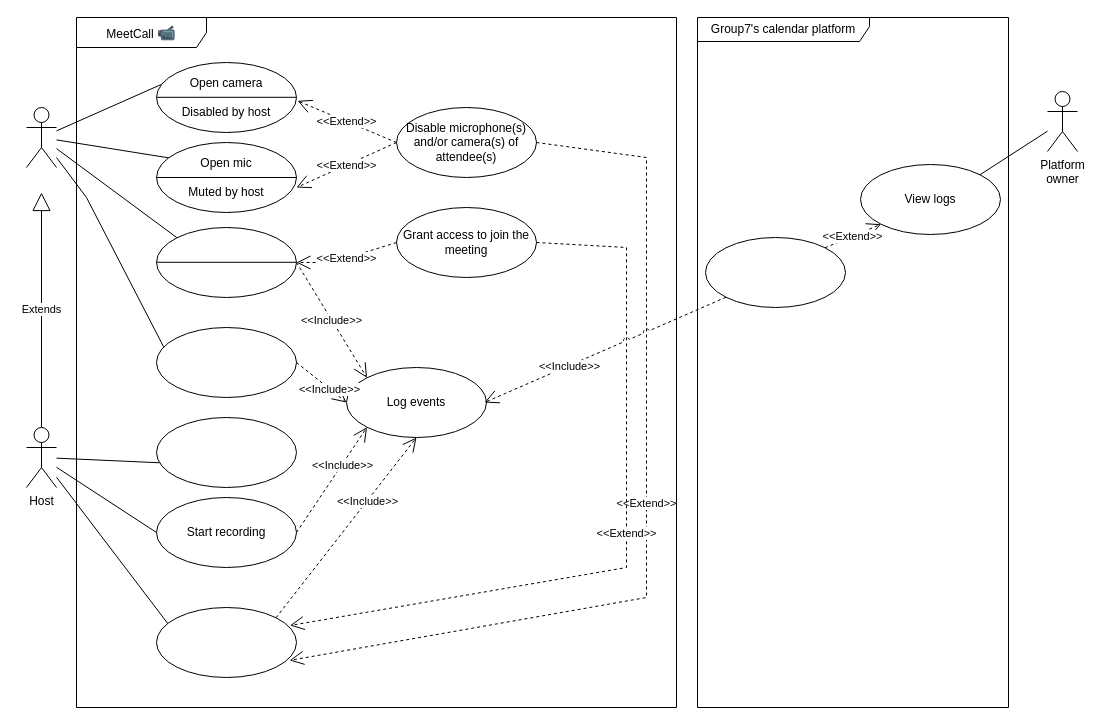
This 1102x725 diagram has some shape labels left out. Here are the shapes that lost their labels. From the top down, the box of each, then its label:
(26, 106, 56, 168): Attendee
(156, 226, 296, 298): Request to join the meeting Permission Denied
(704, 236, 846, 308): Save logs to data storage
(156, 326, 296, 398): Send a chat message
(156, 416, 296, 488): Share screen
(156, 606, 296, 678): Manage meeting
